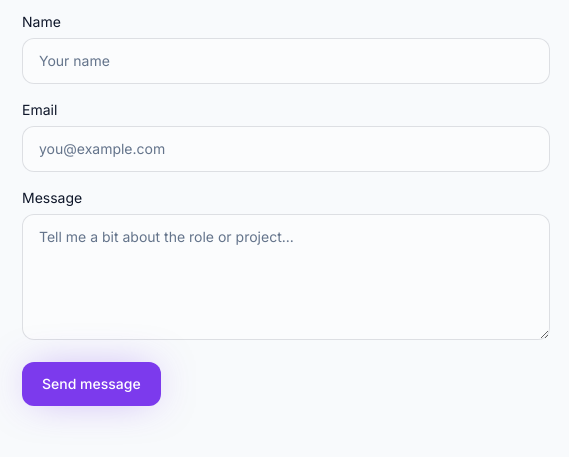
Test case: ContactForm › submits the message to Formspree and shows success
The image size is (569, 457).
In the field labelled "Name": [286, 61] box [22,38,550,84], type "Aradhana"
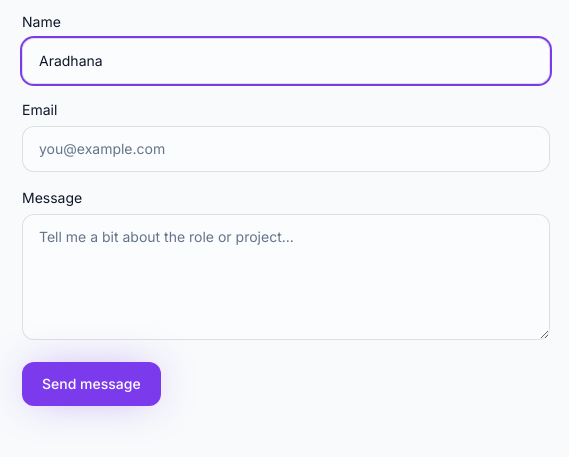
In the field labelled "Email": [286, 149] box [22,126,550,172], type "a@example.com"
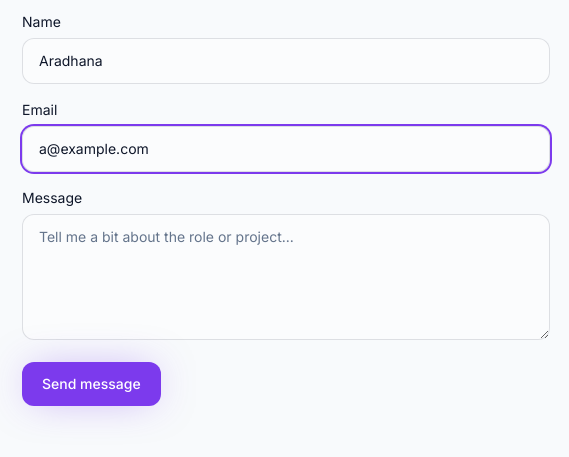
In the text box labelled "Message": [286, 277] box [22,214,550,340], type "Hello, this is a sufficiently long test message."
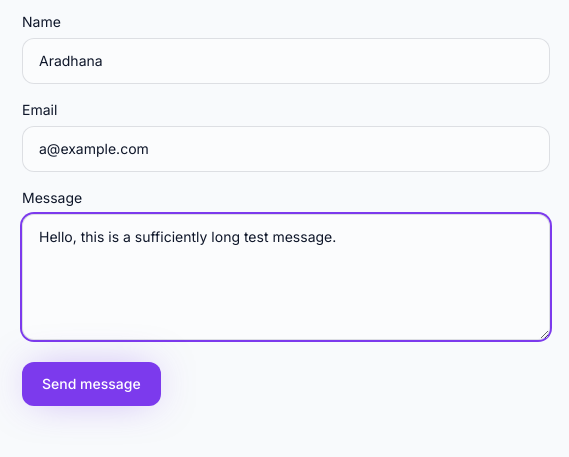
Click the button "Send message": [91, 384] box [22,362,161,406]
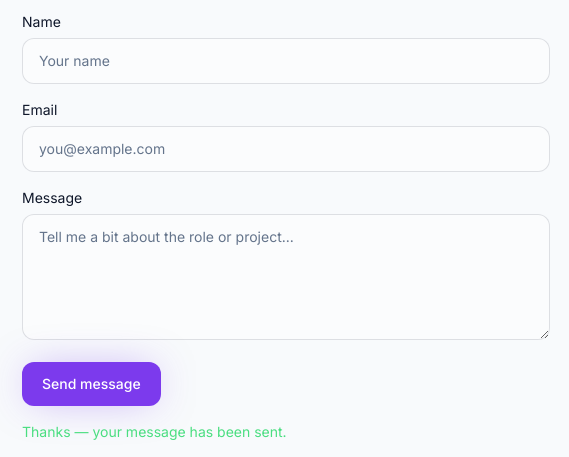
Check: the message "Thanks — your message has been sent." is shown, box [22,423,287,440]
